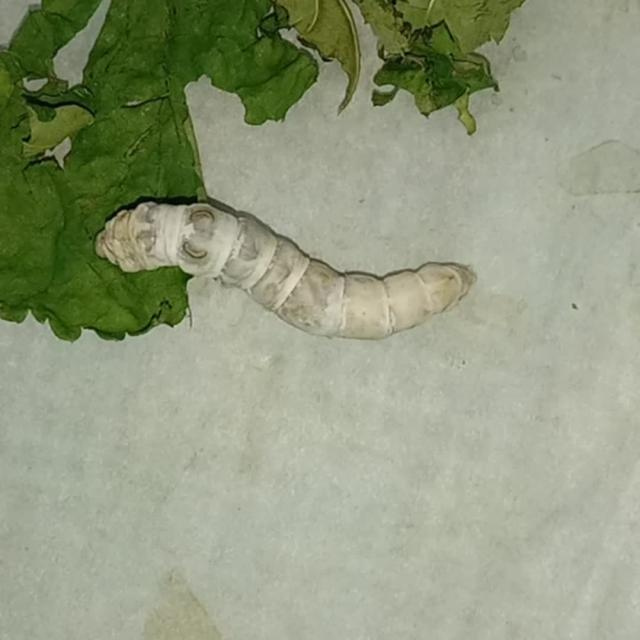Grasserie: (88, 179, 488, 353)
